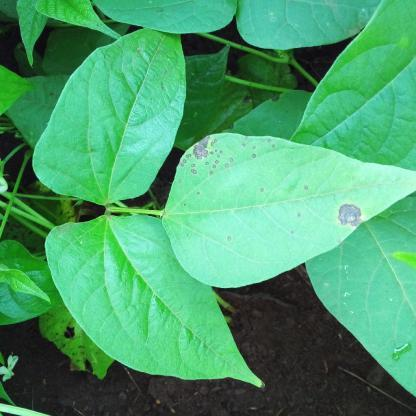Beans_Angular_LeafSpot: (163, 134, 416, 284)
